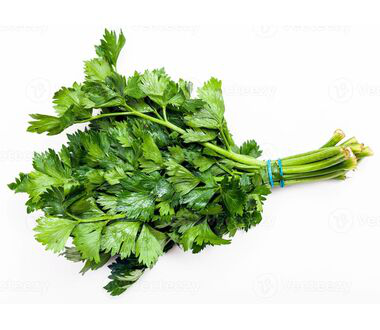Seledri: (50, 60, 364, 276)
